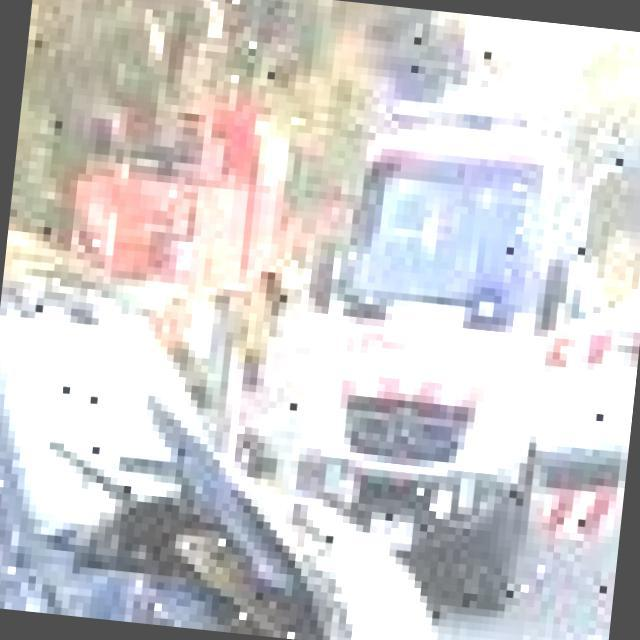emergency-vehicle: (279, 57, 640, 608)
